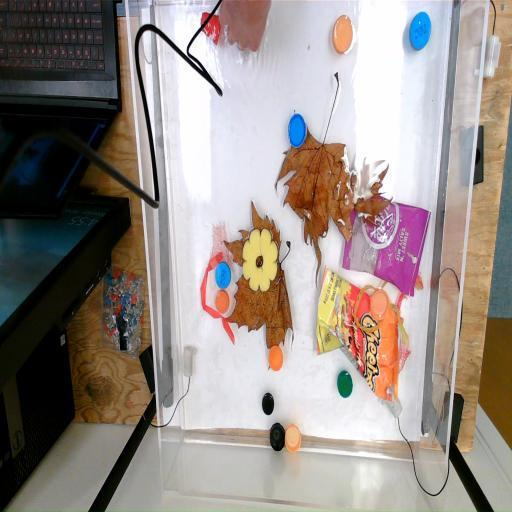Bottle Cap: (406, 10, 434, 53), (334, 10, 356, 56), (284, 113, 308, 148), (367, 288, 390, 319), (266, 422, 288, 452), (266, 343, 286, 372), (214, 264, 236, 290), (284, 424, 303, 454), (336, 368, 352, 400), (213, 288, 230, 314), (260, 392, 276, 416)
Cone Cap: (197, 8, 224, 46)
Leaf: (266, 68, 354, 284), (220, 201, 306, 358), (348, 156, 392, 234)
Netting: (395, 266, 425, 378), (207, 220, 235, 274)
Plastic Bag: (314, 262, 412, 410), (341, 190, 434, 299)
Plastic Strand: (354, 281, 414, 349), (198, 252, 240, 348)
Sponge: (240, 230, 281, 292)
